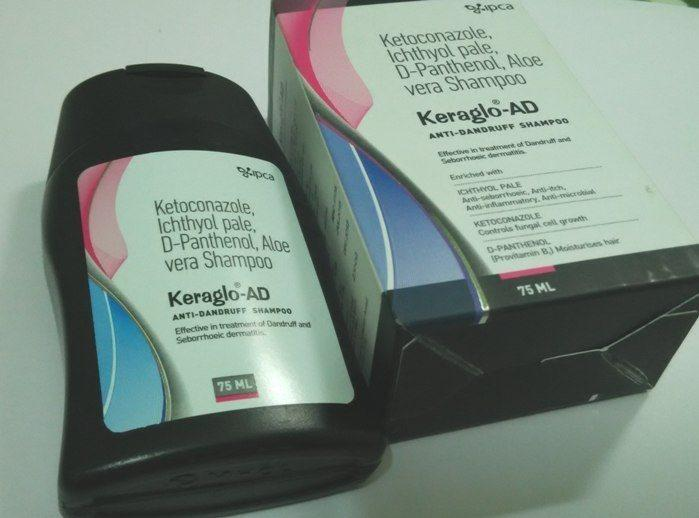KeraGlo: (41, 61, 380, 516)
